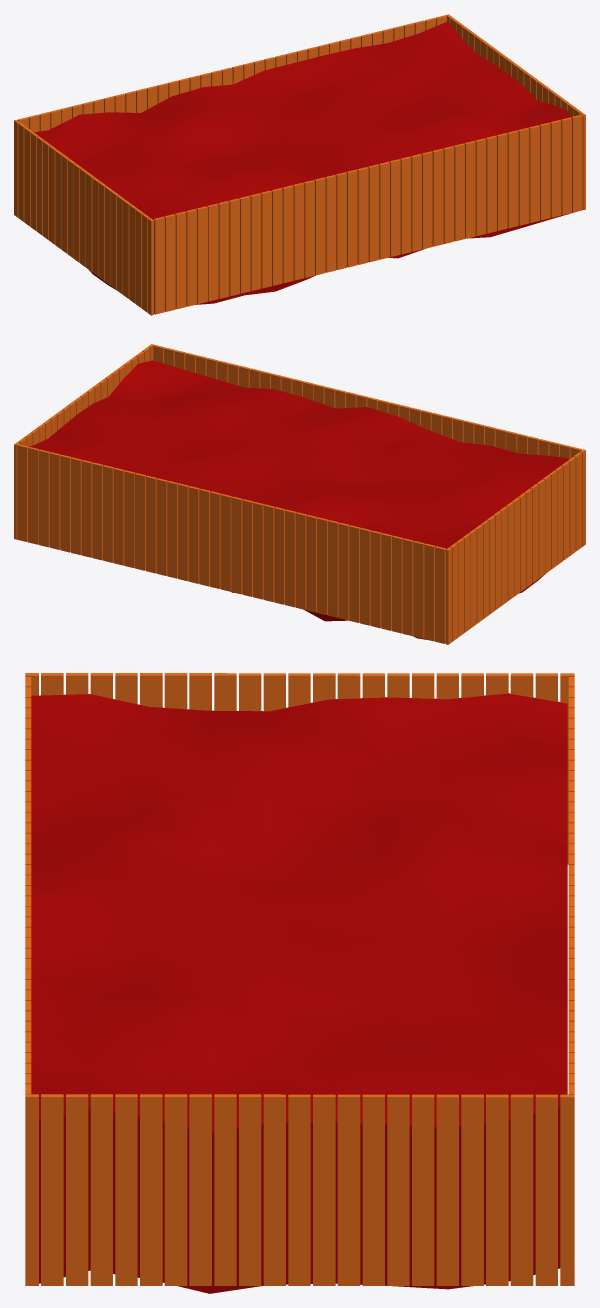
Rendered from Support_Silo.fbx.
The picture shows the model from 3 angles, top to bottom: view 1: azimuth 30°, elevation 25°; view 2: azimuth 150°, elevation 25°; view 3: azimuth 270°, elevation 25°; orthographic projection. The views are drawn at different scales.
Parts seen in each view (by area): view 1: Support_Silo; view 2: Support_Silo; view 3: Support_Silo.
Part boxes in pixels (x1,y1,x2,y2): Support_Silo: [14, 14, 585, 315]; Support_Silo: [14, 344, 585, 644]; Support_Silo: [25, 673, 574, 1293].
Bounding box in the file's own units: 1177 × 266 × 645.
